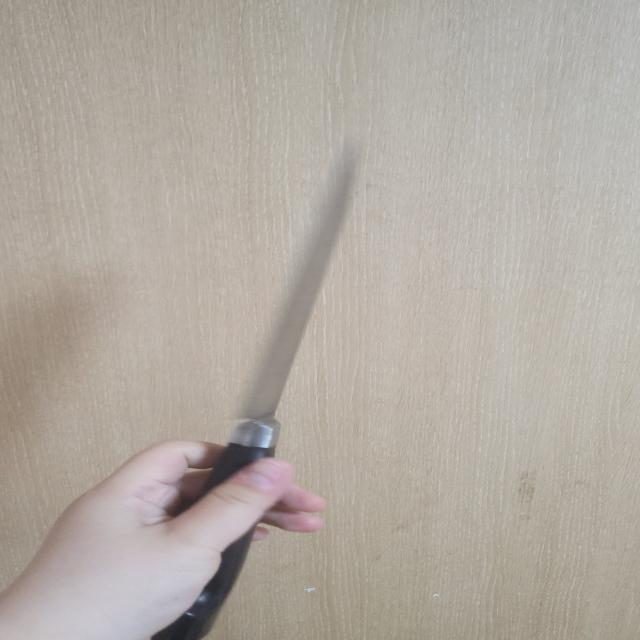knife: (145, 136, 360, 640)
